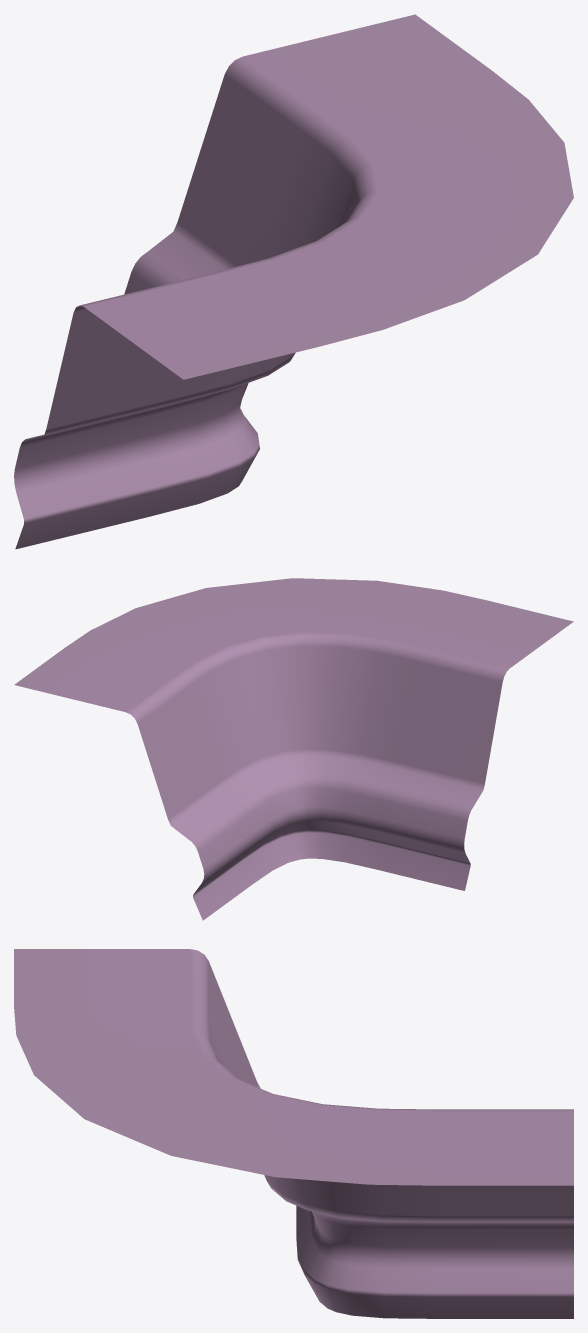
The model's file is corner wall overlay.fbx.
3 renders of one model, top to bottom at view 1: azimuth 30°, elevation 25°; view 2: azimuth 150°, elevation 25°; view 3: azimuth 270°, elevation 25°, orthographic. The views are drawn at different scales.
Visible parts, largest first — view 1: pCube112; view 2: pCube112; view 3: pCube112.
Boxes of the visible parts, x1,y1,x2,y2 form: pCube112: [14, 14, 573, 549]; pCube112: [14, 578, 573, 920]; pCube112: [14, 949, 573, 1318].
Size of the model in its own units: 204 by 104 by 204.
